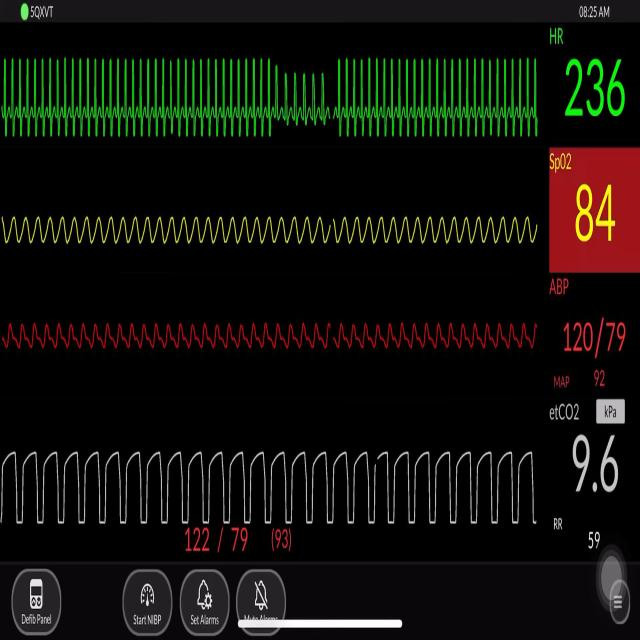danger: (6, 45, 272, 148), (335, 47, 543, 149), (278, 65, 330, 133)
